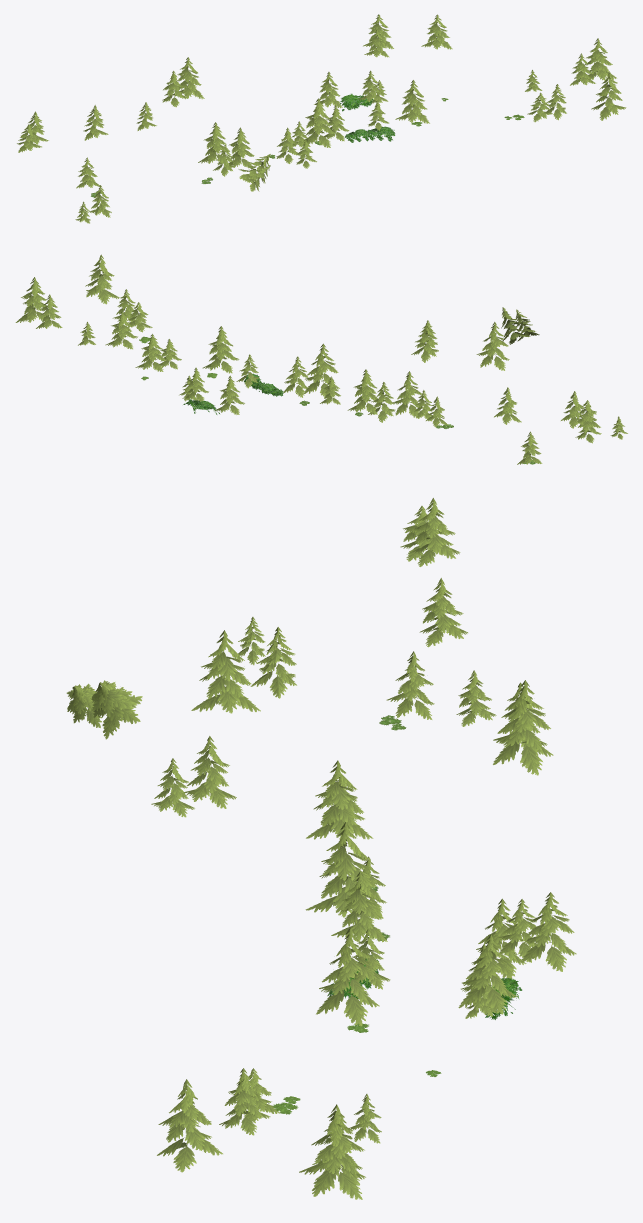
File: zhibei1_1.fbx
The picture shows the model from 3 angles, top to bottom: view 1: azimuth 30°, elevation 25°; view 2: azimuth 150°, elevation 25°; view 3: azimuth 270°, elevation 25°; orthographic projection. The views are drawn at different scales.
Parts seen in each view (by area): view 1: zhibei1_1; view 2: zhibei1_1; view 3: zhibei1_1.
Boxes of the visible parts, left/top/right/bottom form: zhibei1_1: left=17, top=14, right=626, bottom=223; zhibei1_1: left=15, top=254, right=627, bottom=464; zhibei1_1: left=66, top=498, right=576, bottom=1199.
Size of the model in its own units: 10299 by 1573 by 3971.
